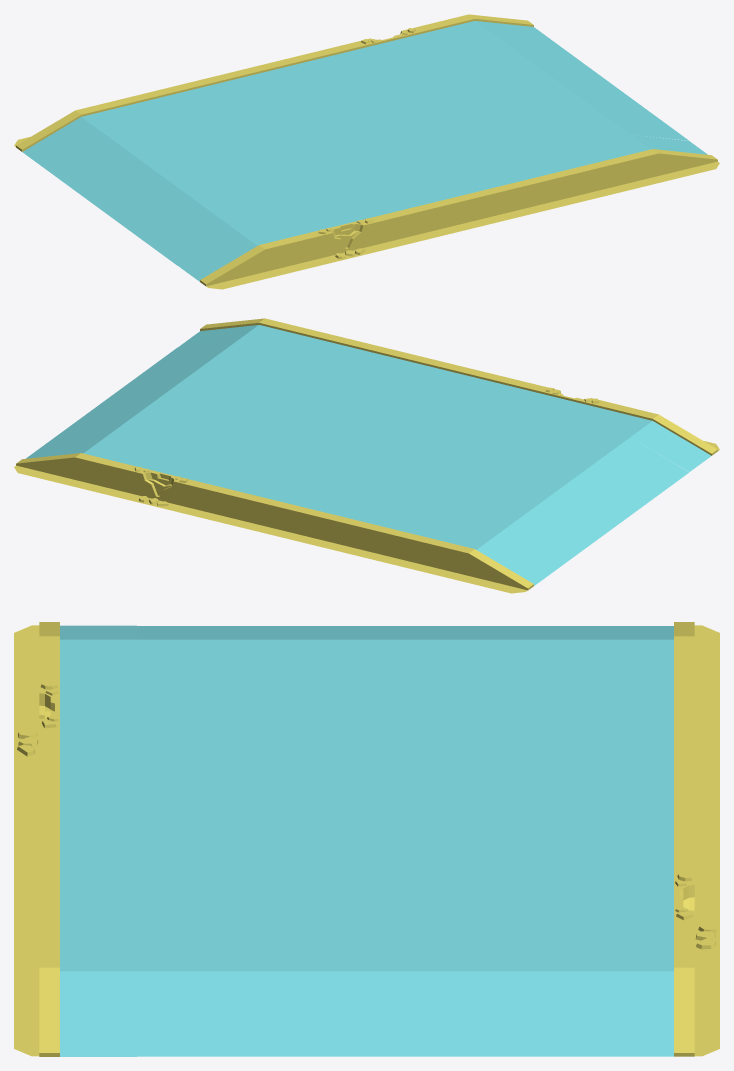
Rendered from Road_Top (2).fbx.
The picture shows the model from 3 angles, top to bottom: view 1: azimuth 30°, elevation 25°; view 2: azimuth 150°, elevation 25°; view 3: azimuth 270°, elevation 25°; orthographic projection. The views are drawn at different scales.
Parts seen in each view (by area): view 1: Road_Top_Central, Road_Top1, Road_Top2; view 2: Road_Top_Central, Road_Top2, Road_Top1; view 3: Road_Top_Central, Road_Top1, Road_Top2.
Part boxes in pixels (x1,y1,x2,y2): Road_Top_Central: (45,37,688,265); Road_Top1: (178,134,719,289); Road_Top2: (14,14,555,168); Road_Top_Central: (45,341,688,569); Road_Top2: (14,438,555,593); Road_Top1: (178,318,719,471); Road_Top_Central: (137,626,596,1056); Road_Top1: (14,622,136,1056); Road_Top2: (597,622,719,1056).
Bounding box in the file's own units: 2600 × 119 × 1800.
